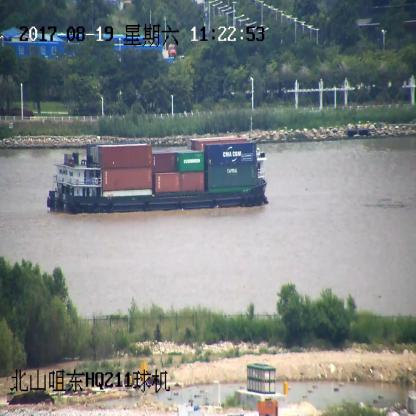Container Ship: (47, 122, 269, 214)
